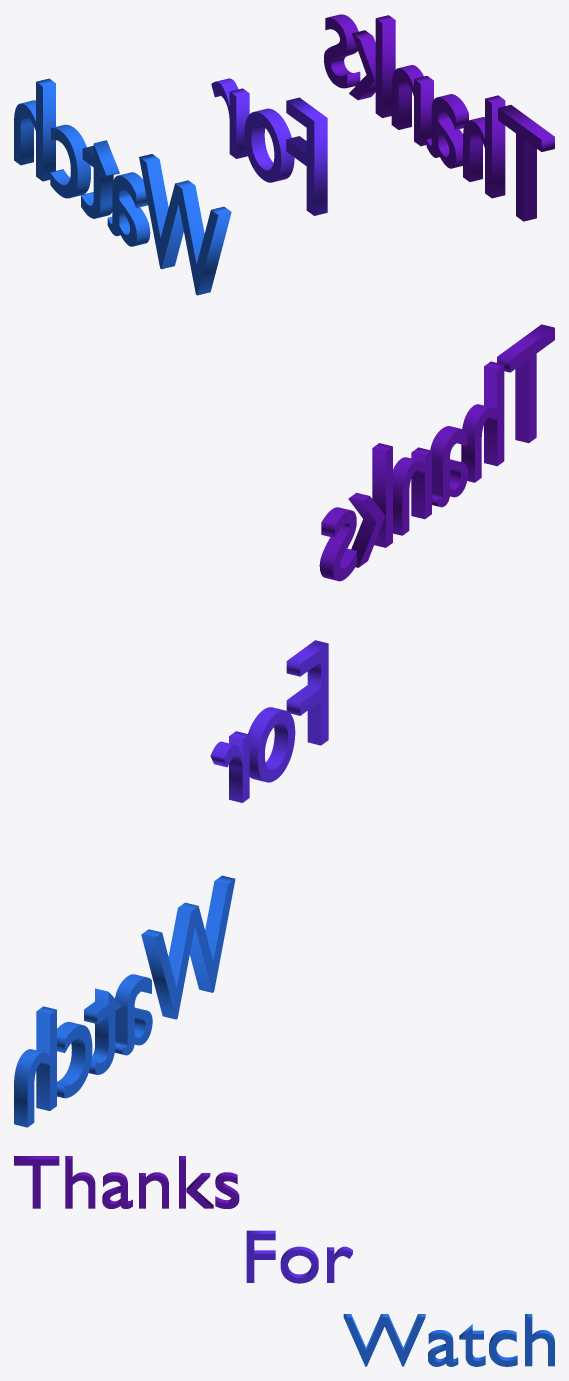
Rendered from THx.glb.
The picture shows the model from 3 angles, top to bottom: view 1: azimuth 30°, elevation 25°; view 2: azimuth 150°, elevation 25°; view 3: azimuth 270°, elevation 25°; orthographic projection. The views are drawn at different scales.
Visible parts, largest first — view 1: Text.004, Text.006, Text.005; view 2: Text.004, Text.006, Text.005; view 3: Text.004, Text.006, Text.005.
Boxes of the visible parts, x1,y1,x2,y2 form: Text.004: (324,14,554,221); Text.006: (14,78,231,295); Text.005: (211,78,327,215); Text.004: (319,324,554,581); Text.006: (14,875,235,1127); Text.005: (210,640,328,802); Text.004: (14,1156,239,1208); Text.006: (343,1314,554,1366); Text.005: (246,1230,352,1283).
Size of the model in its own units: 0.1352 by 2.9 by 6.81.
